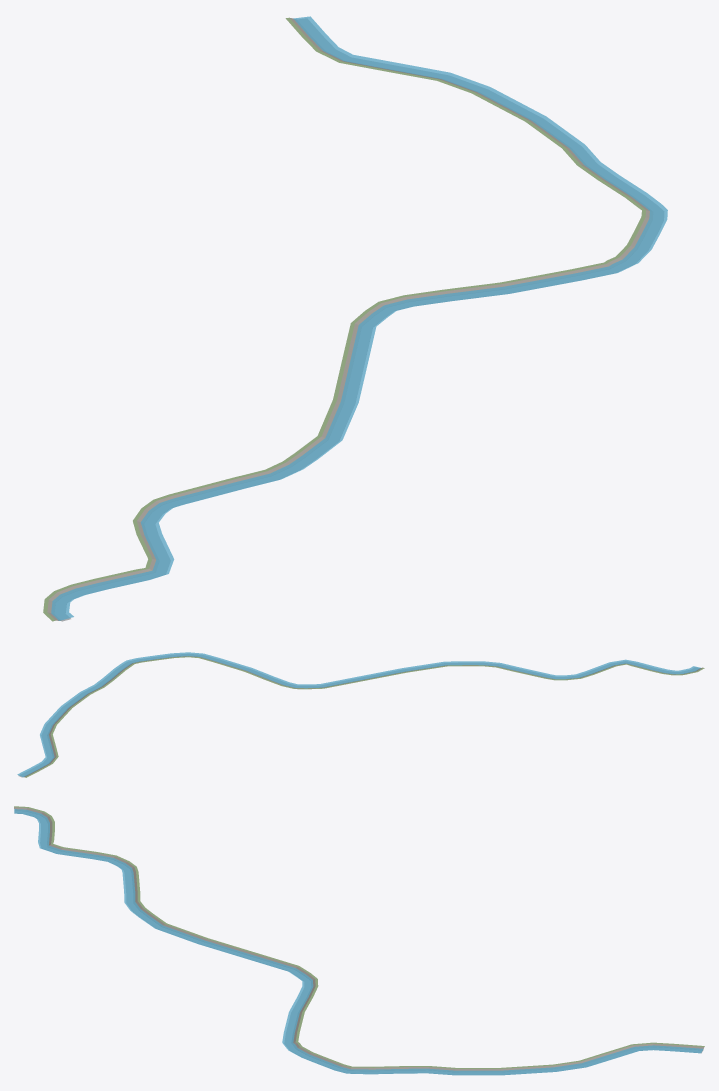
The model's file is corridor-04.glb.
3 renders of one model, top to bottom at view 1: azimuth 30°, elevation 25°; view 2: azimuth 150°, elevation 25°; view 3: azimuth 270°, elevation 25°, orthographic. The views are drawn at different scales.
Visible parts, largest first — view 1: water_water, concreteDark_terrain, rock_terrain, grass_terrain; view 2: water_water, concreteDark_terrain, grass_terrain, rock_terrain; view 3: water_water, rock_terrain, concreteDark_terrain, grass_terrain.
Boxes of the visible parts, left/top/right/bottom form: water_water: left=51, top=16, right=667, bottom=620; concreteDark_terrain: left=55, top=19, right=663, bottom=621; rock_terrain: left=47, top=18, right=652, bottom=621; grass_terrain: left=43, top=17, right=645, bottom=621; water_water: left=17, top=652, right=700, bottom=777; concreteDark_terrain: left=18, top=654, right=698, bottom=777; grass_terrain: left=25, top=656, right=704, bottom=777; rock_terrain: left=23, top=656, right=702, bottom=777; water_water: left=14, top=809, right=703, bottom=1075; rock_terrain: left=14, top=807, right=704, bottom=1071; concreteDark_terrain: left=14, top=811, right=702, bottom=1074; grass_terrain: left=14, top=806, right=704, bottom=1068.
Bounding box in the file's own units: 7331 × 37.44 × 7947.
4 materials, 4 textured.
